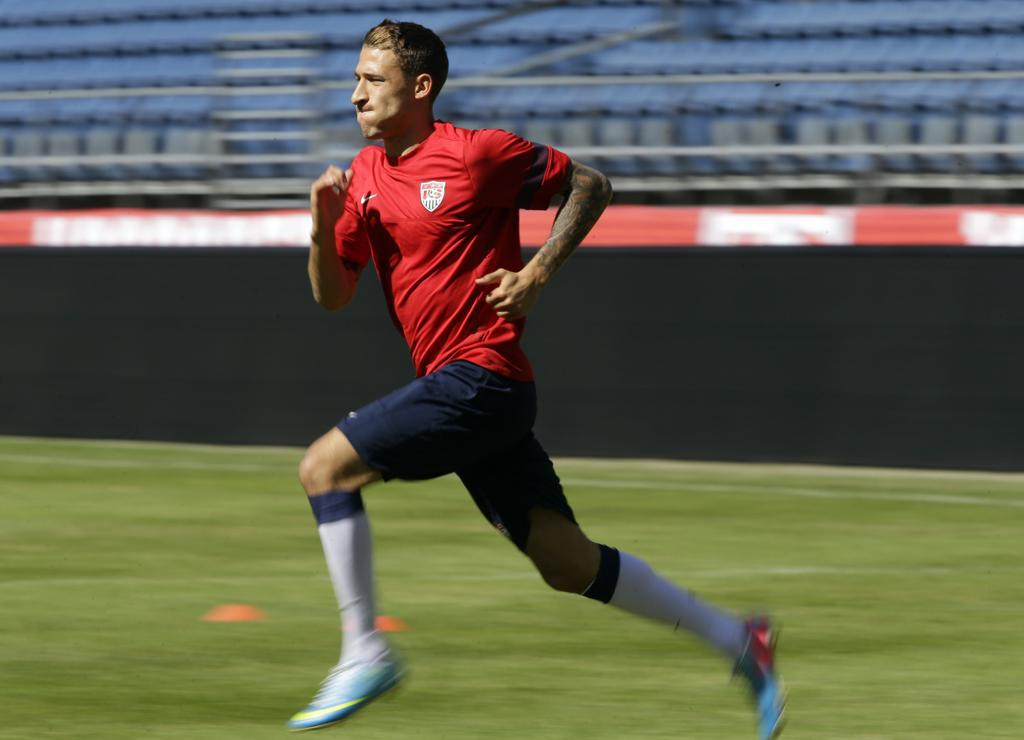face: (351, 43, 415, 137)
